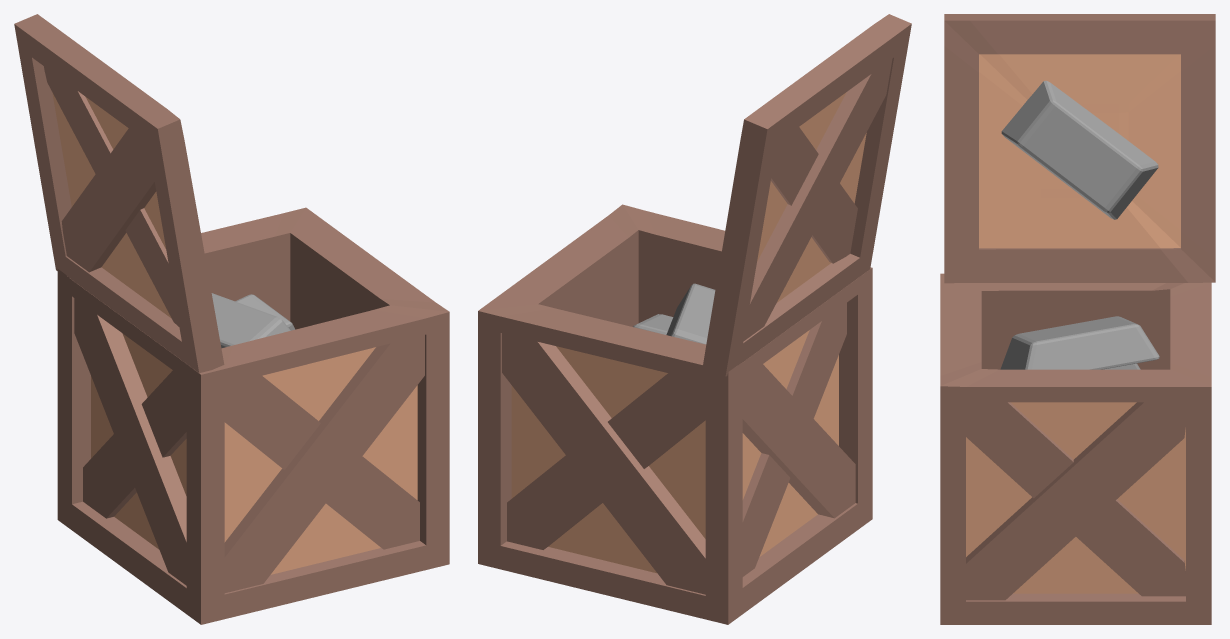
The model's file is Box_Metal.fbx.
3 views of the same model, side by side, from view 1: azimuth 30°, elevation 25°; view 2: azimuth 150°, elevation 25°; view 3: azimuth 270°, elevation 25° (orthographic). The views are drawn at different scales.
Parts seen in each view (by area): view 1: Box; view 2: Box; view 3: Box.
Boxes of the visible parts, x1,y1,x2,y2 form: Box: [14, 14, 449, 624]; Box: [478, 14, 911, 624]; Box: [940, 14, 1215, 624].
Bounding box in the file's own units: 111 × 185 × 96.2.
